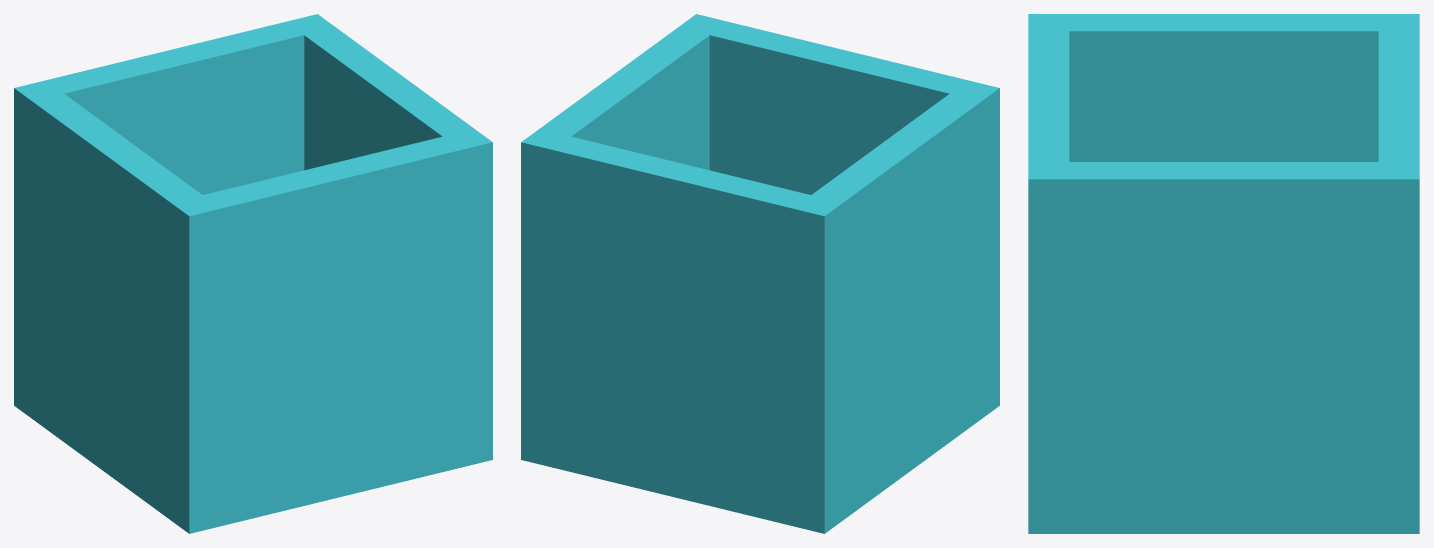
Rendered from DepositBoxGREYBOX.fbx.
3 views of the same model, side by side, from view 1: azimuth 30°, elevation 25°; view 2: azimuth 150°, elevation 25°; view 3: azimuth 270°, elevation 25° (orthographic). The views are drawn at different scales.
Parts seen in each view (by area): view 1: Cube; view 2: Cube; view 3: Cube.
Part boxes in pixels (left/top/right/bottom): Cube: left=14, top=14, right=492, bottom=533; Cube: left=521, top=14, right=999, bottom=533; Cube: left=1028, top=14, right=1419, bottom=533.
Size of the model in its own units: 100 by 100 by 100.
